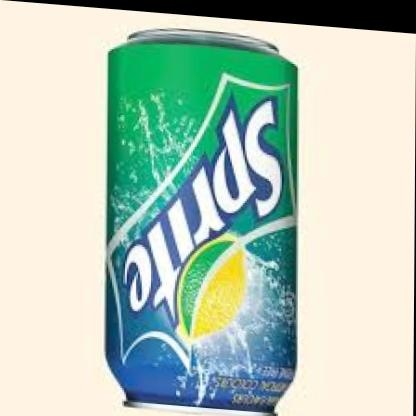trash: (106, 29, 296, 411)
